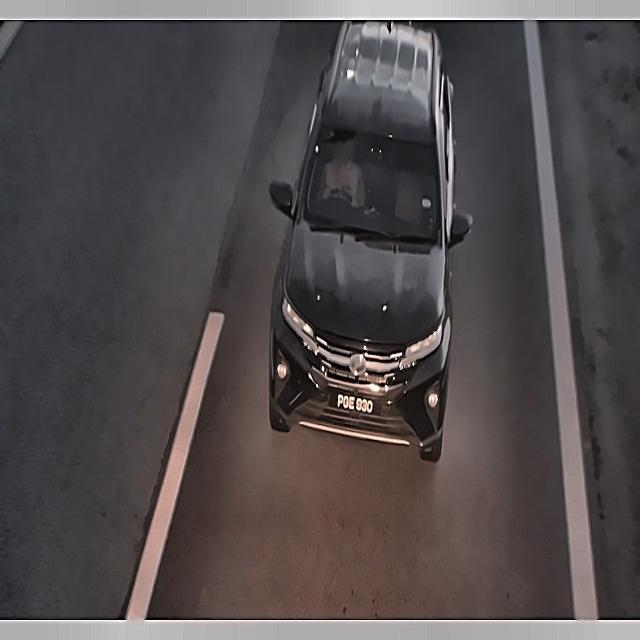car: (326, 385, 387, 424)
